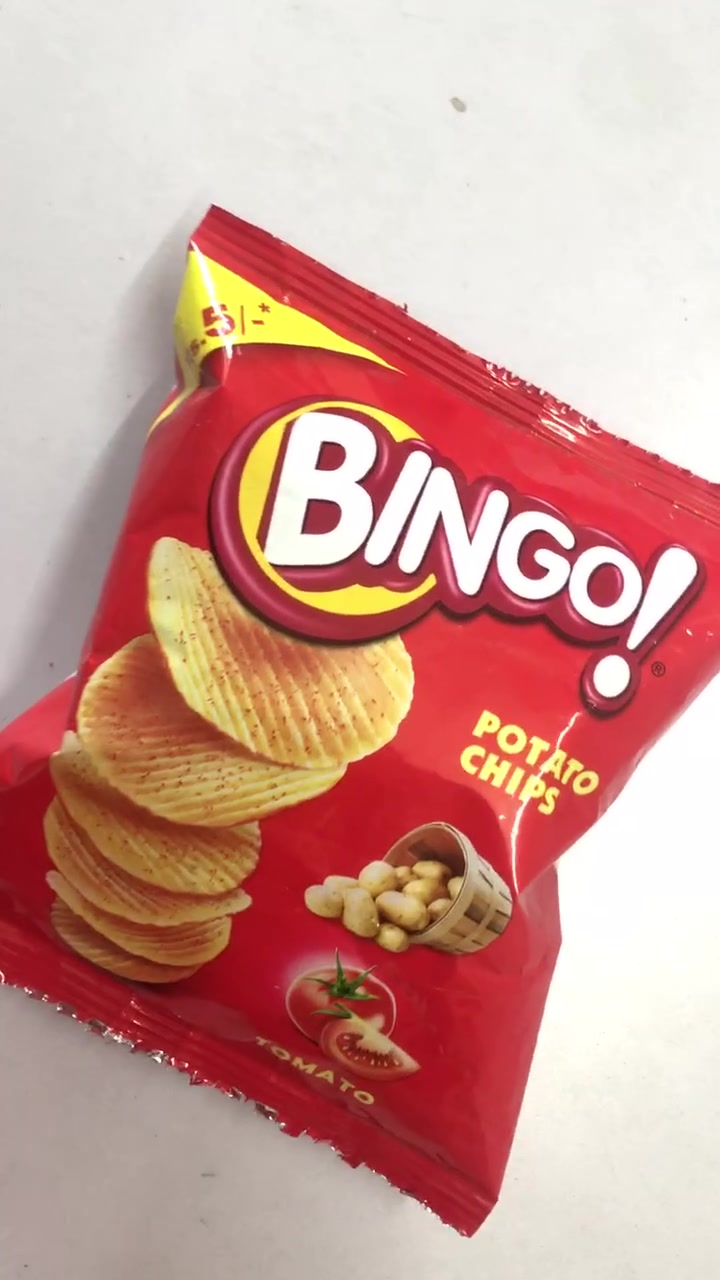Bingo: (2, 212, 720, 1228)
